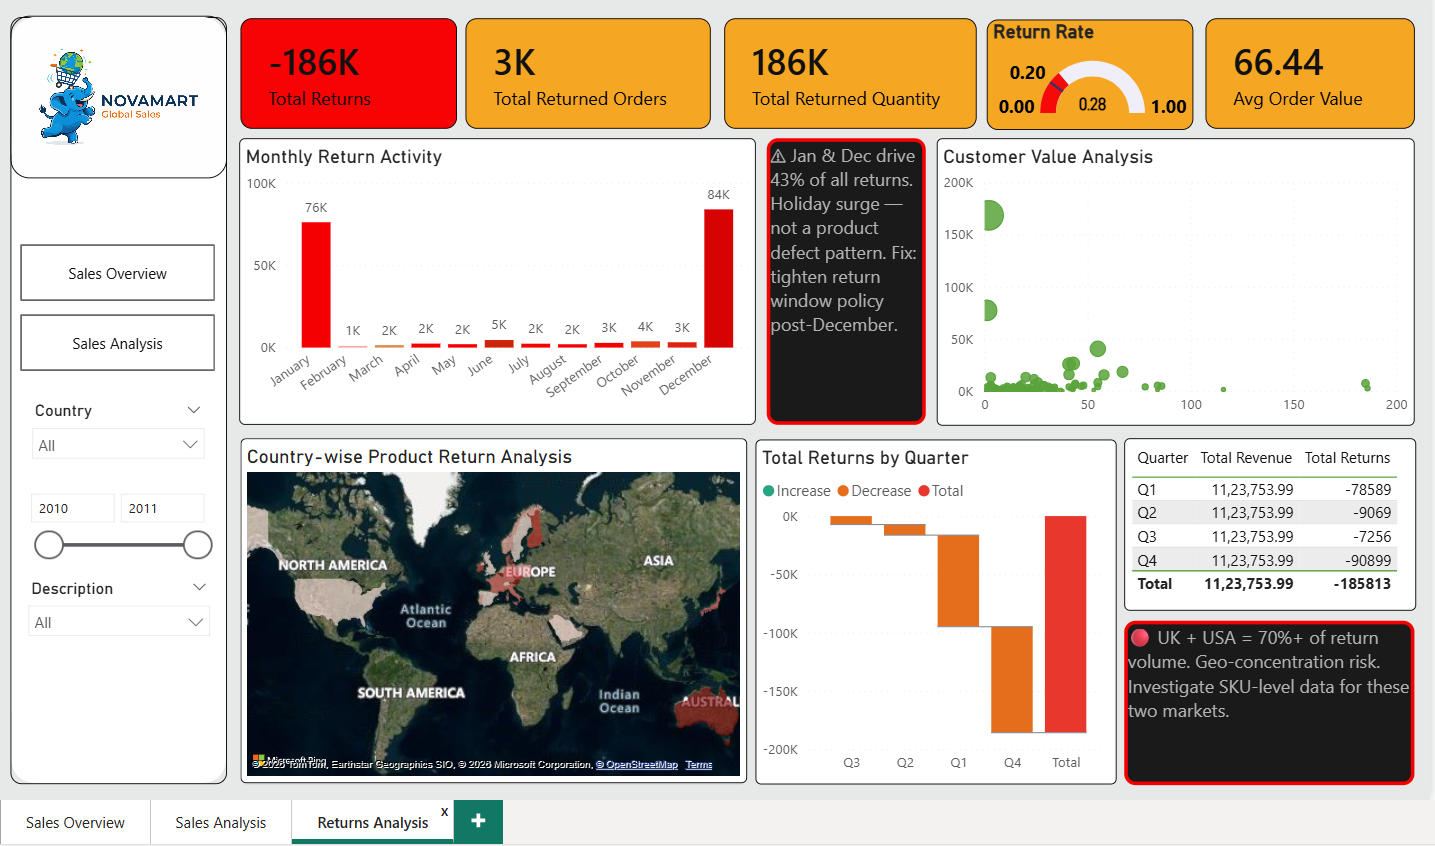

The page's visual inventory and layout, read from the dashboard file:
{"tool":"powerbi","page":{"name":" Returns Analysis","canvas":[1280,720],"ordinal":2},"visuals":[{"type":"shape","box":[15.3,22.2,193.1,683.3],"z":0},{"type":"image","box":[15.3,20.8,193.1,144.4],"z":1000},{"type":"cardVisual","fields":{"Data":["Returns.Total Returns"]},"box":[220,23.8,192.5,98.8],"z":2000},{"type":"cardVisual","fields":{"Data":["Returns.Total Returned Orders"]},"box":[421.2,23.8,218.8,98.8],"z":3000},{"type":"cardVisual","fields":{"Data":["Returns.Total Returned Quantity"]},"box":[651.2,23.8,225,98.8],"z":4000},{"type":"pageNavigator","box":[25,225,173.6,50],"z":5000},{"type":"pageNavigator","box":[25,287.5,173.6,50],"z":6000},{"type":"columnChart","title":"Monthly Return Activity","fields":{"Category":["Returns.Month_Name"],"Y":["Returns.Total Returned Quantity"]},"box":[219.6,130.4,459.7,255.2],"z":7000},{"type":"filledMap","title":"Country-wise Product Return Analysis","fields":{"Category":["Returns.Country"]},"box":[220,397.5,451.2,307.5],"z":8000},{"type":"slicer","fields":{"Values":["Returns.Country"]},"box":[25,359.7,173.6,76.4],"z":9000},{"type":"slicer","fields":{"Values":["Returns.Year"]},"box":[20.8,436.1,181.9,93.1],"z":10000},{"type":"slicer","fields":{"Values":["Returns.Description"]},"box":[20.8,518.1,181.9,65.3],"z":11000},{"type":"cardVisual","fields":{"Data":["Returns.Avg Order Value"]},"box":[1080,23.8,186.2,98.8],"z":12000},{"type":"textbox","box":[1007.5,560,258.8,146.2],"z":13000},{"type":"tableEx","fields":{"Values":["Returns.Quarter","Sales.Total Revenue","Returns.Total Returns"]},"box":[1007.5,397.5,260,153.8],"z":14000},{"type":"gauge","fields":{"Y":["Returns.Return Rate"]},"box":[885,24.3,184.3,98.6],"z":15000},{"type":"scatterChart","title":"Customer Value Analysis","fields":{"X":["Sales.Total Orders"],"Y":["Sales.Total Revenue"],"Category":["Sales.CustomerID"],"Size":["Sales.Total Revenue"]},"box":[840,130,425.7,255.7],"z":16000},{"type":"waterfallChart","fields":{"Category":["Returns.Quarter"],"Y":["Returns.Total Returns"]},"box":[678.6,398.6,321.4,307.1],"z":17000},{"type":"textbox","box":[688.9,130.4,141.3,255.2],"z":18000}]}

Visuals, with their boxes in screenshot pixels (x1, y1, x2, y2):
shape: [x1=24, y1=17, x2=238, y2=773]
image: [x1=24, y1=16, x2=238, y2=175]
cardVisual - Returns.Total Returns: [x1=251, y1=19, x2=464, y2=128]
cardVisual - Returns.Total Returned Orders: [x1=473, y1=19, x2=715, y2=128]
cardVisual - Returns.Total Returned Quantity: [x1=727, y1=19, x2=976, y2=128]
pageNavigator: [x1=35, y1=241, x2=227, y2=297]
pageNavigator: [x1=35, y1=310, x2=227, y2=366]
"Monthly Return Activity" columnChart: [x1=250, y1=137, x2=759, y2=419]
"Country-wise Product Return Analysis" filledMap: [x1=251, y1=432, x2=750, y2=772]
slicer - Returns.Country: [x1=35, y1=390, x2=227, y2=475]
slicer - Returns.Year: [x1=30, y1=475, x2=232, y2=578]
slicer - Returns.Description: [x1=30, y1=565, x2=232, y2=638]
cardVisual - Returns.Avg Order Value: [x1=1202, y1=19, x2=1407, y2=128]
textbox: [x1=1121, y1=612, x2=1407, y2=773]
tableEx - Returns.Quarter x Sales.Total Revenue: [x1=1121, y1=432, x2=1409, y2=602]
gauge - Returns.Return Rate: [x1=986, y1=19, x2=1190, y2=128]
"Customer Value Analysis" scatterChart: [x1=936, y1=136, x2=1407, y2=419]
waterfallChart - Returns.Quarter x Returns.Total Returns: [x1=758, y1=433, x2=1113, y2=773]
textbox: [x1=769, y1=137, x2=925, y2=419]
